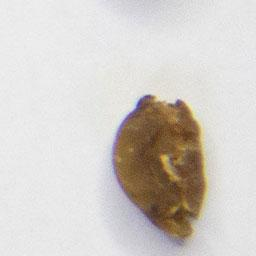defect: (101, 87, 214, 245)
